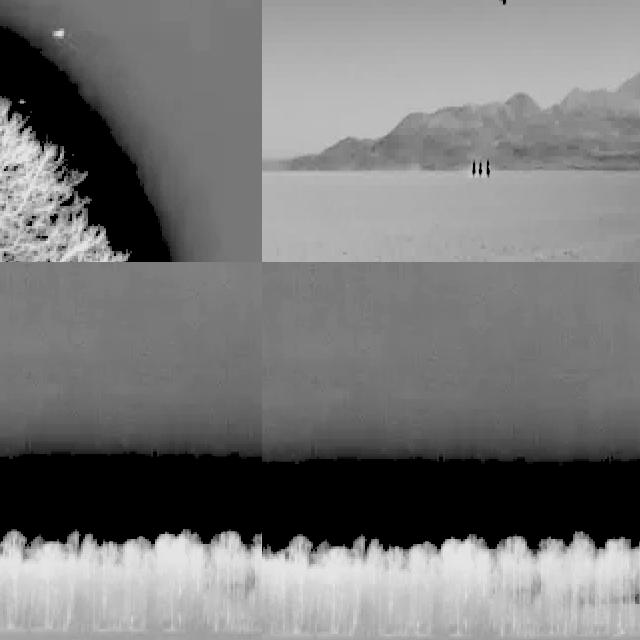0: (44, 16, 78, 56)
drone: (496, 0, 517, 12)
